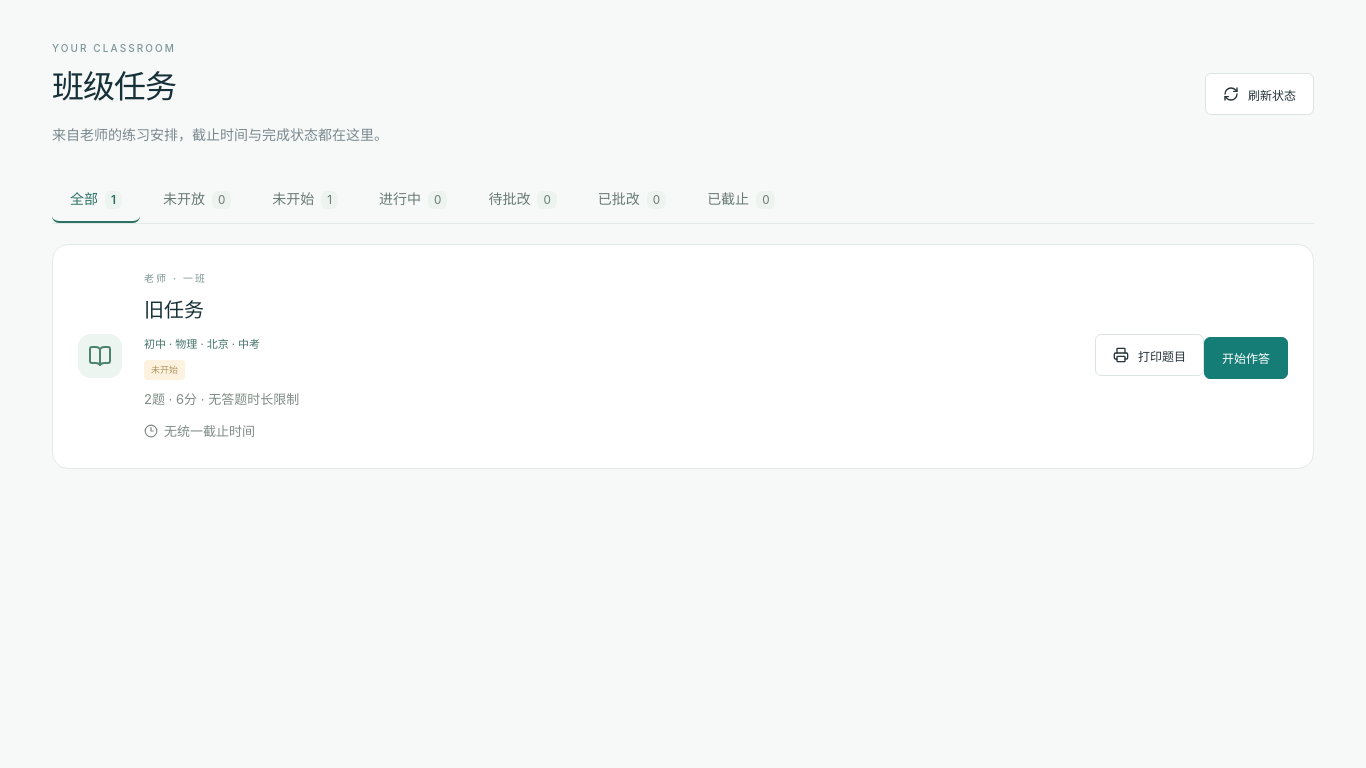
Test: 已收到的任务保留打印入口，并将所选推送ID传给PDF接口
Click the button "打印题目" at (1150,355), box [1095,334,1204,376]
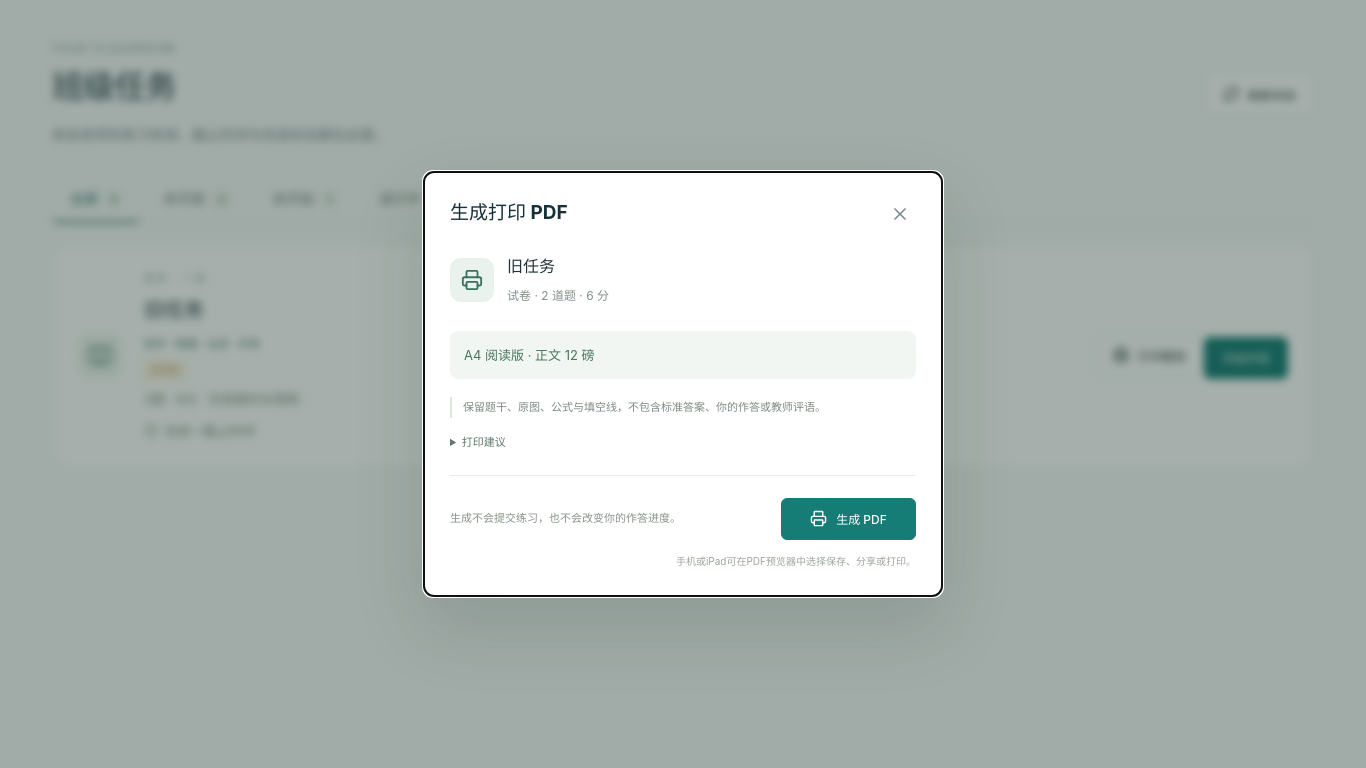
Result: the heading "生成打印 PDF" is shown at [450,198,568,229]
Click the button "生成 PDF" at (848,519), box [781,498,916,540]
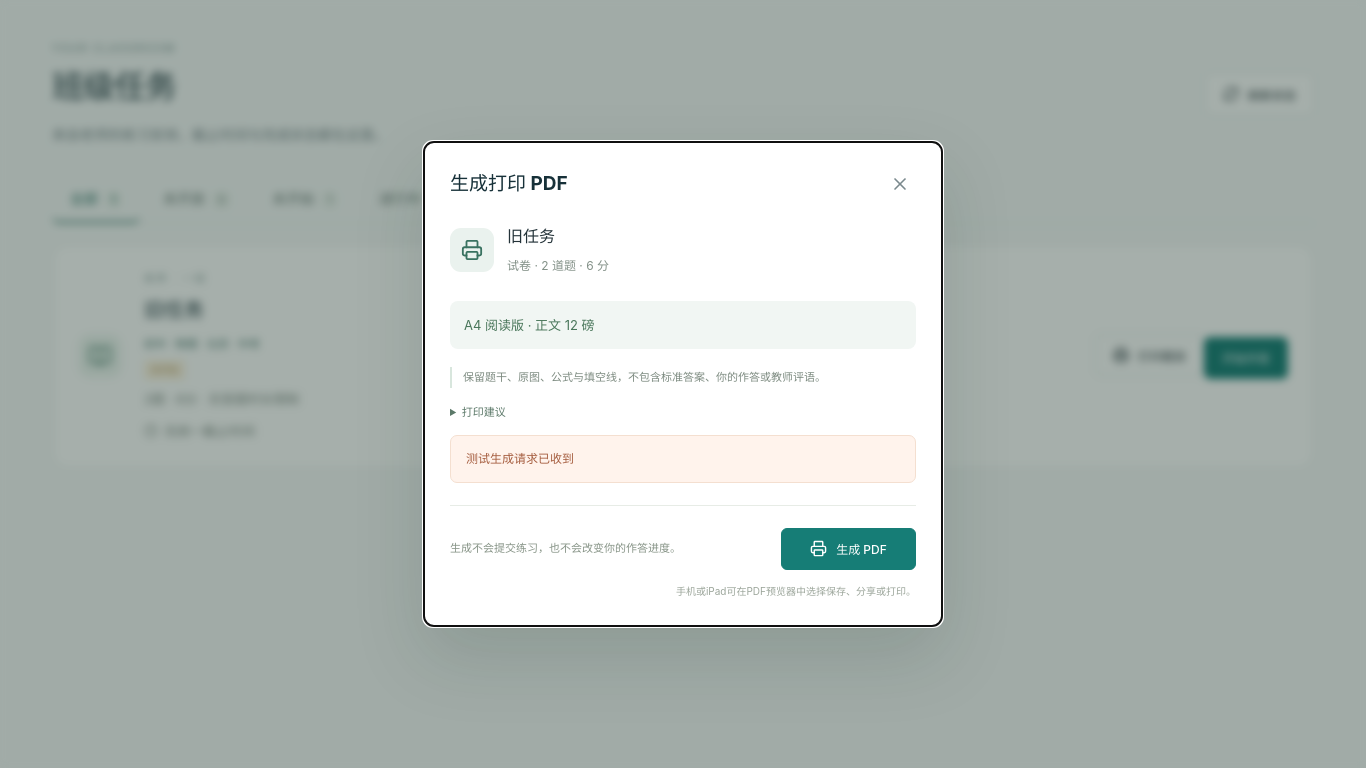
Result: the message "测试生成请求已收到" is shown at [450,435,916,483]
